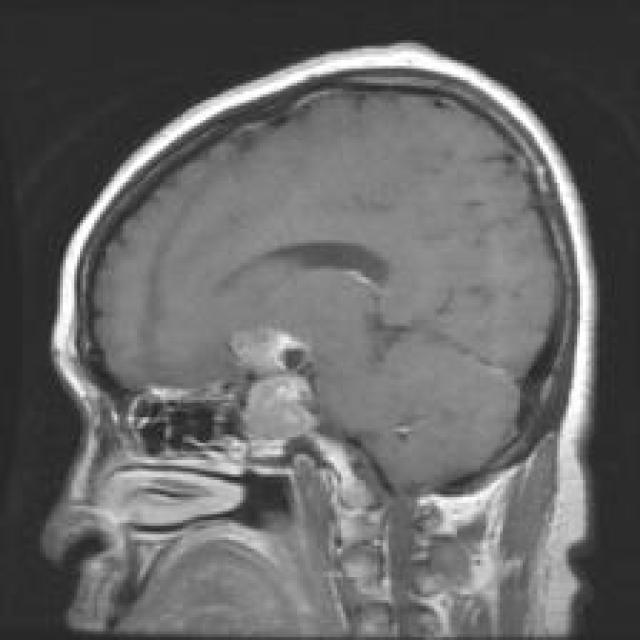pituitary_tumor: (219, 317, 329, 464)
